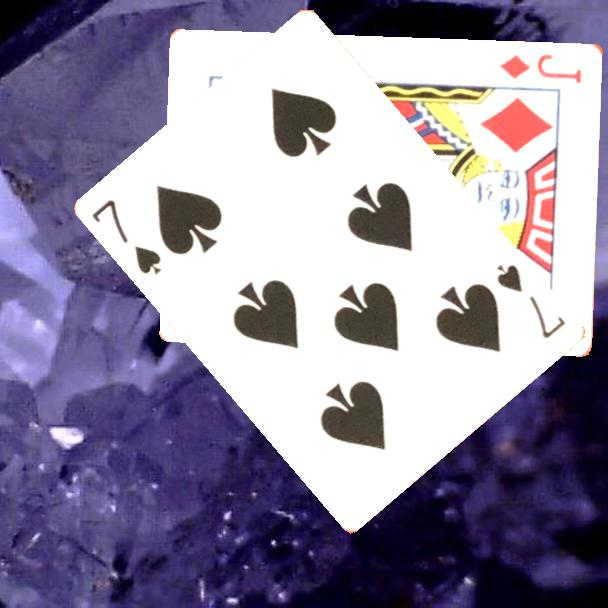d11: (497, 50, 585, 86)
s07: (89, 195, 165, 278), (493, 261, 569, 342)
